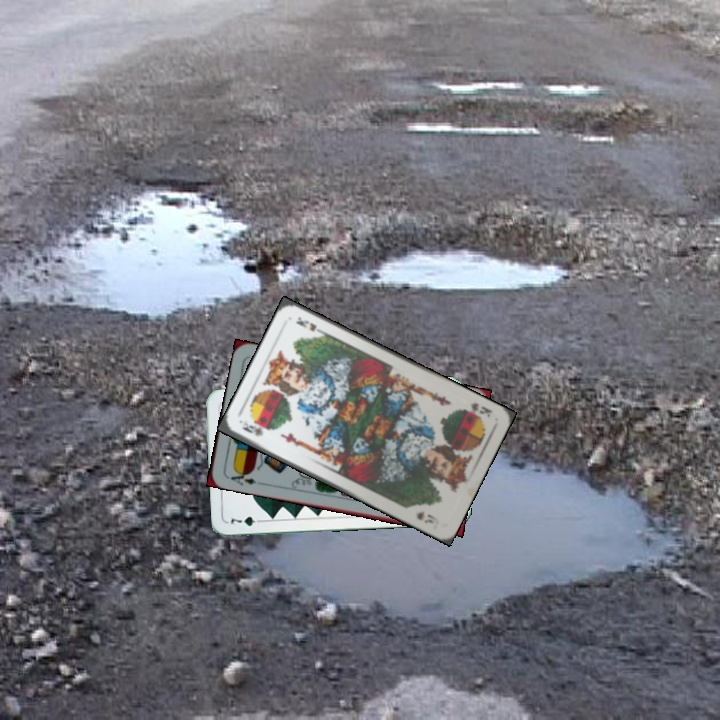EA: (223, 466, 259, 487)
G7: (227, 512, 266, 529)
SK: (459, 398, 495, 421), (239, 416, 265, 439)
